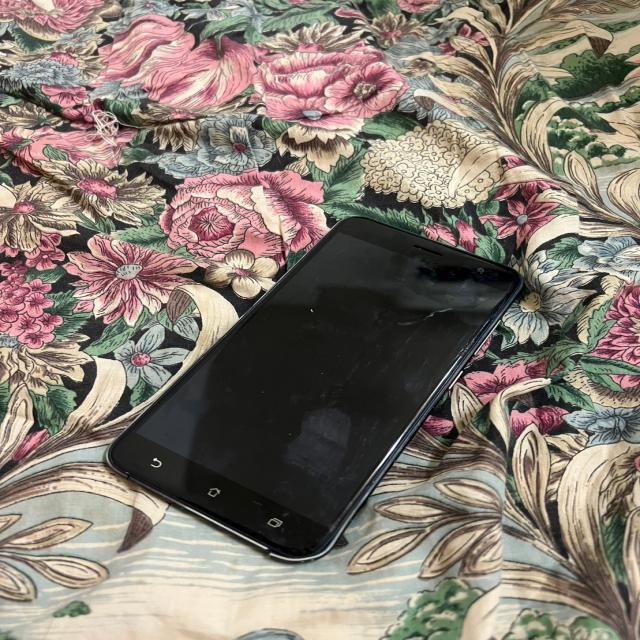Smartphone: (106, 218, 522, 563)
